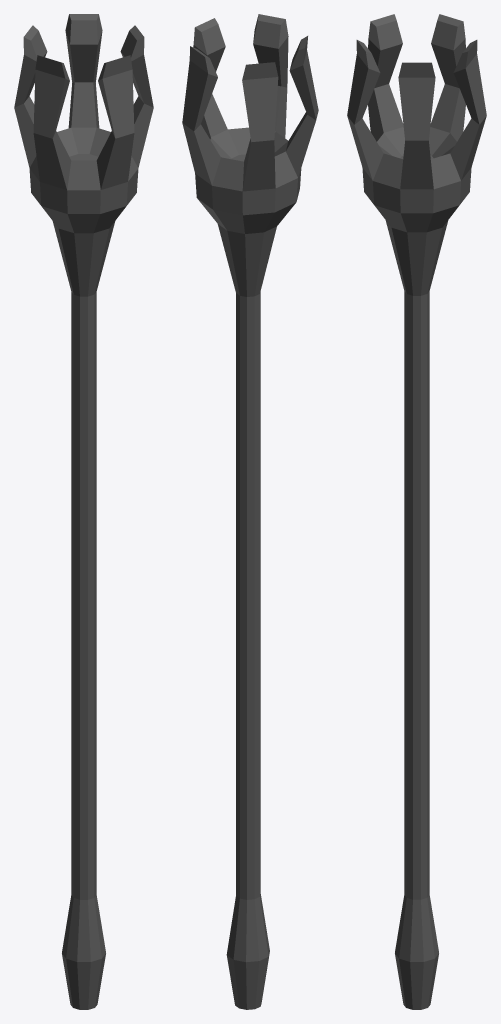
The model's file is StandingTorch.fbx.
3 views of the same model, side by side, from view 1: azimuth 90°, elevation 25°; view 2: azimuth 210°, elevation 25°; view 3: azimuth 270°, elevation 25° (orthographic).
Parts seen in each view (by area): view 1: StandingTorch; view 2: StandingTorch; view 3: StandingTorch.
Boxes of the visible parts, left/top/right/bottom form: StandingTorch: left=14, top=14, right=153, bottom=1009; StandingTorch: left=182, top=14, right=318, bottom=1009; StandingTorch: left=347, top=14, right=486, bottom=1009.
Size of the model in its own units: 18.46 by 148 by 19.41.
1 material, 1 textured.
